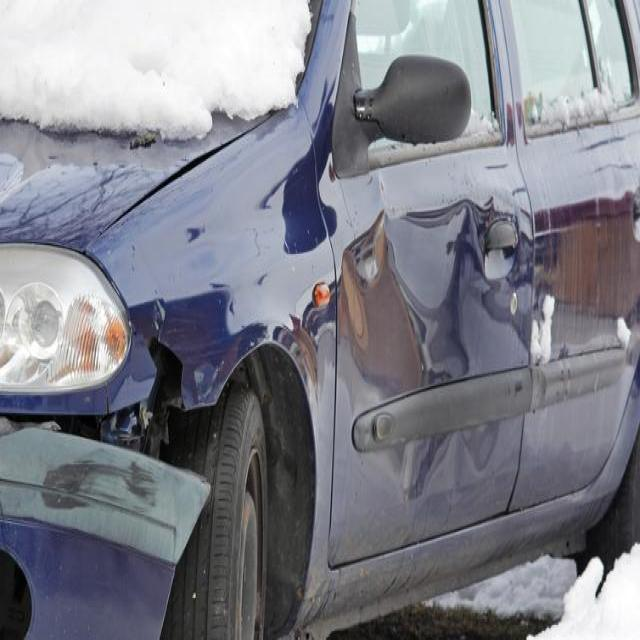Dent: (301, 85, 336, 334), (184, 224, 202, 240), (102, 385, 111, 416), (512, 378, 522, 394), (190, 590, 195, 600), (564, 540, 570, 548)
